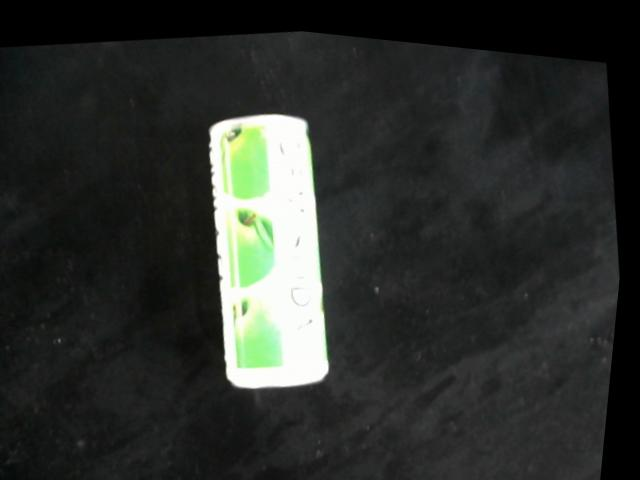can: (209, 107, 337, 384)
